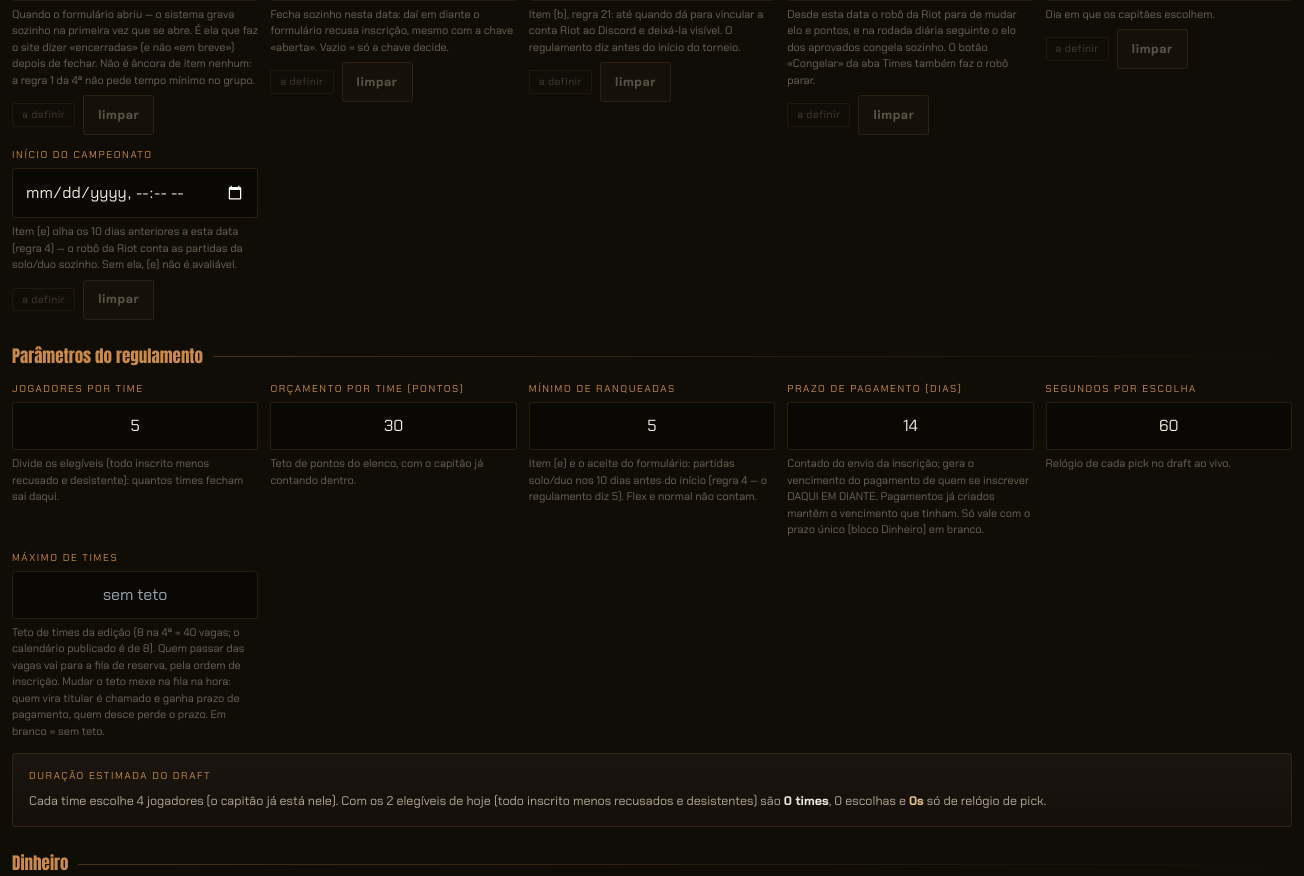
Configuração no celular › campo fora da faixa: a barra aponta o que corrigir e não deixa salvar
The image size is (1304, 876).
(page scrolled)
Step 1. Replace the text in the field labelled "Jogadores por time" with "99" → (135, 426), box [12, 402, 258, 450]
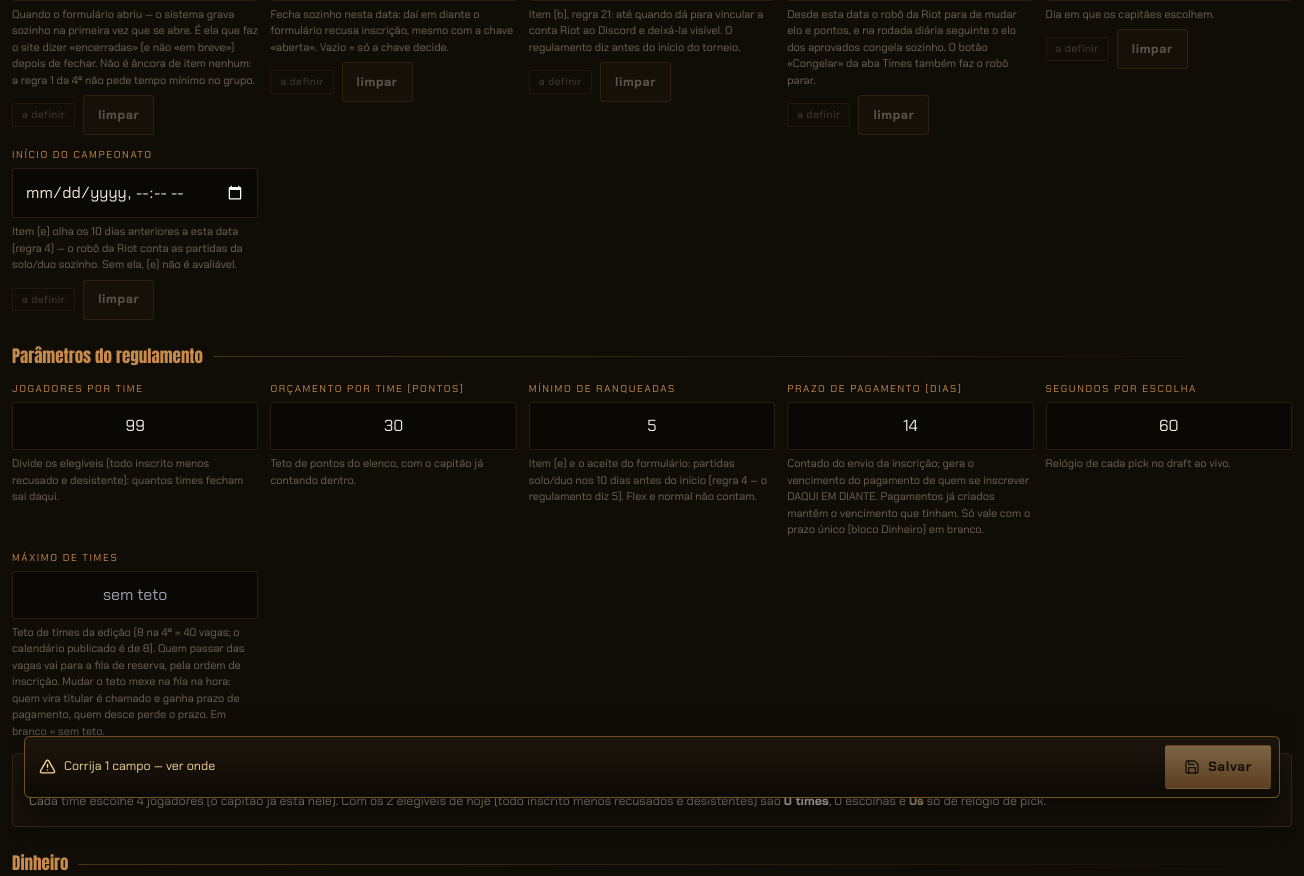
Expected: the button "Corrija 1 campo — ver onde" is shown, [39, 745, 1155, 789]
Expected: the button "Salvar" is disabled, [1165, 745, 1271, 789]
